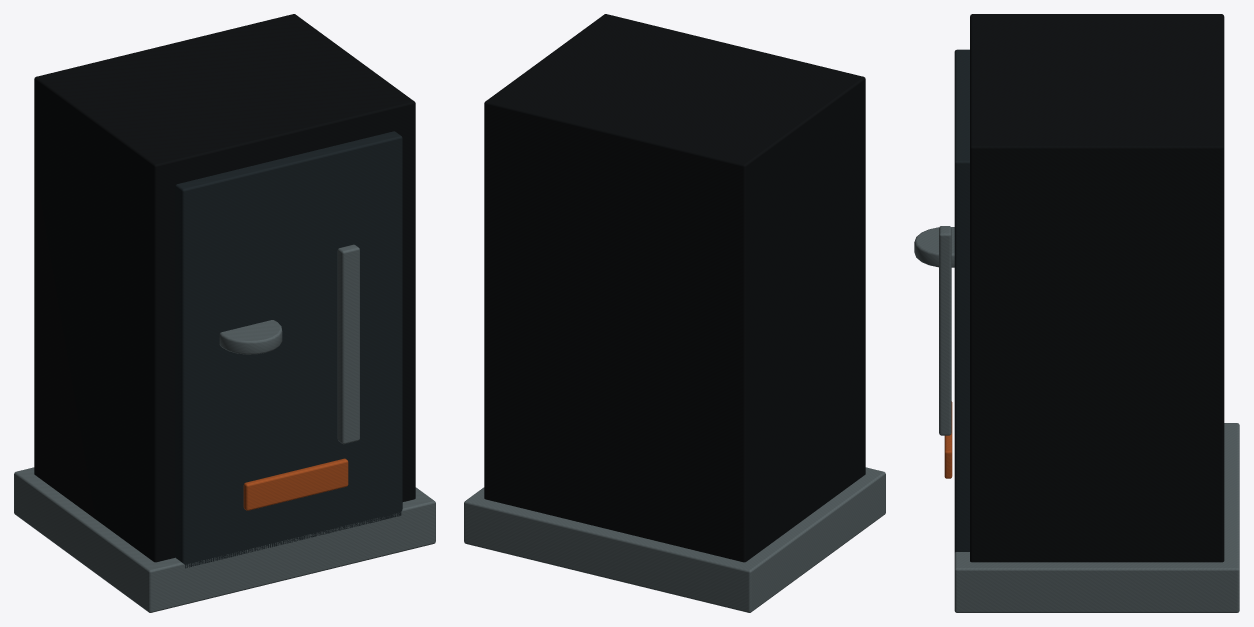
The model's file is SecureStorageSafe.fbx.
3 renders of one model, left to right at view 1: azimuth 30°, elevation 25°; view 2: azimuth 150°, elevation 25°; view 3: azimuth 270°, elevation 25°, orthographic. The views are drawn at different scales.
Visible parts, largest first — view 1: SecureStorageSafe_Mesh; view 2: SecureStorageSafe_Mesh; view 3: SecureStorageSafe_Mesh.
Part boxes in pixels (<box>): SecureStorageSafe_Mesh: <box>14,14,435,612</box>; SecureStorageSafe_Mesh: <box>464,14,885,612</box>; SecureStorageSafe_Mesh: <box>914,14,1239,612</box>.
Size of the model in its own units: 112 by 164 by 105.
5 materials, 5 textured.
